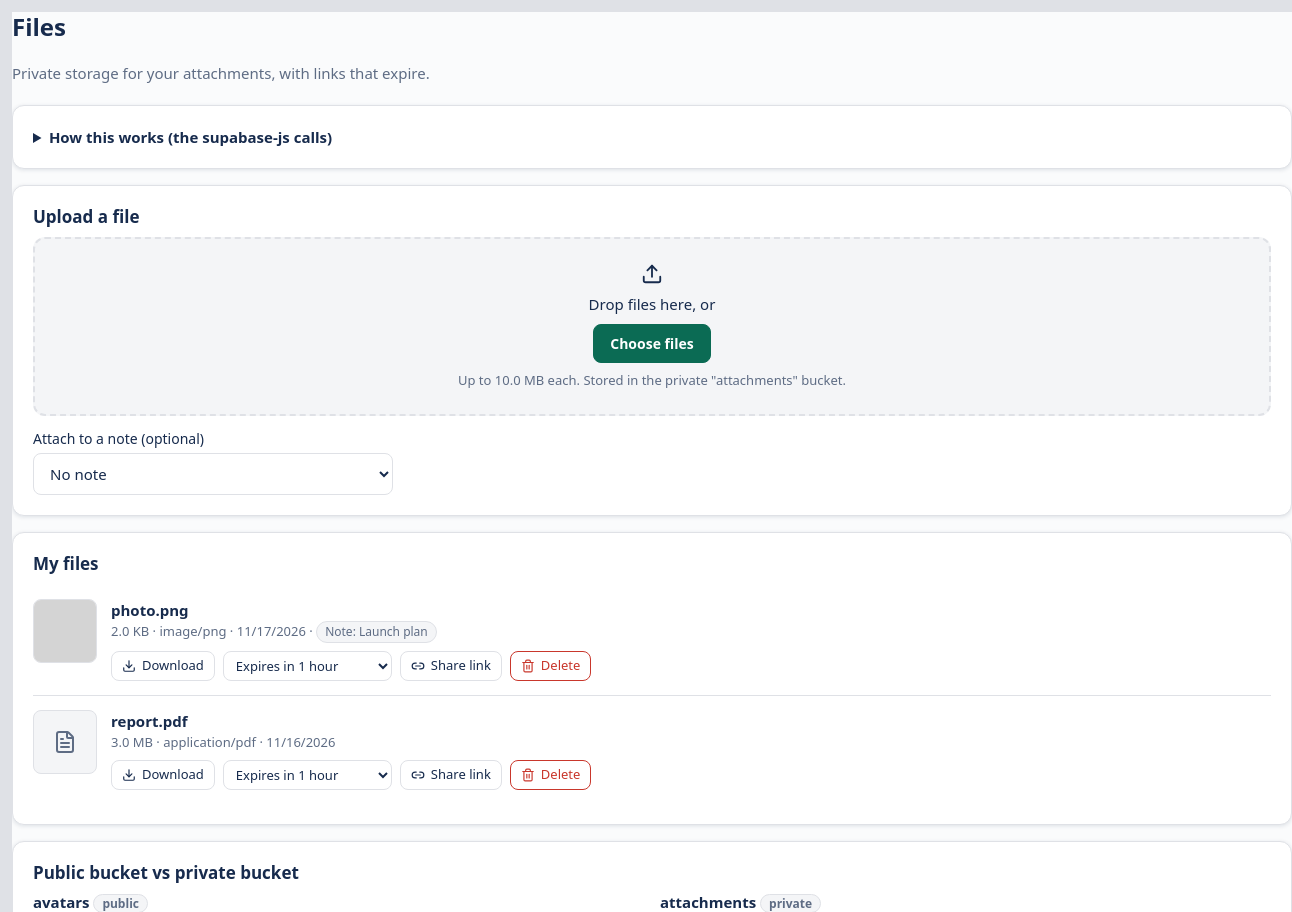
Scenario: FilesPage › deletes after confirmation: storage first, then the row, then removes it from the list
Click the button with aria-label "Delete report.pdf". click: {"x": 551, "y": 775}
box: [510, 760, 591, 790]
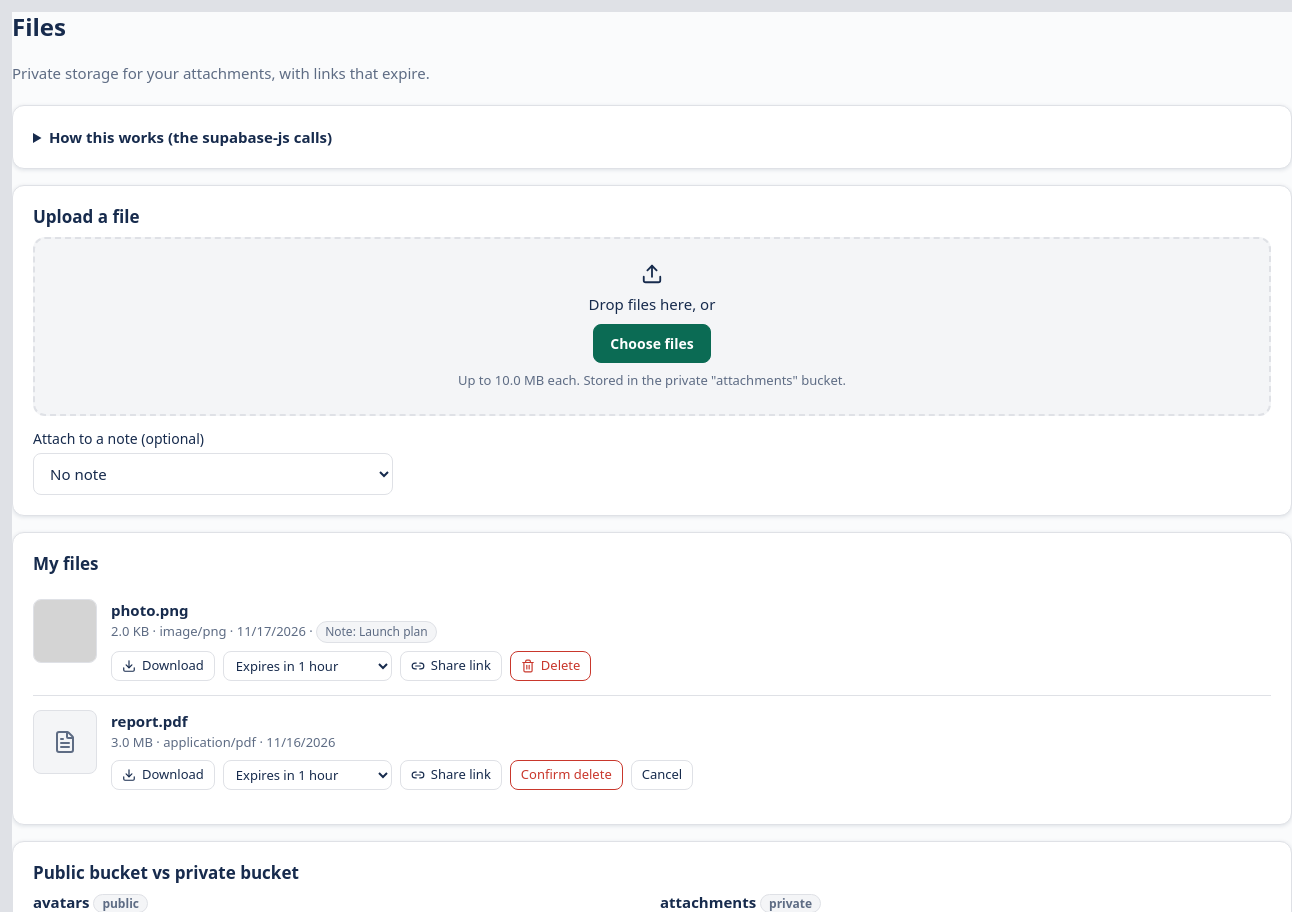
Click the button "Confirm delete". click: {"x": 566, "y": 775}
box: [510, 760, 623, 790]
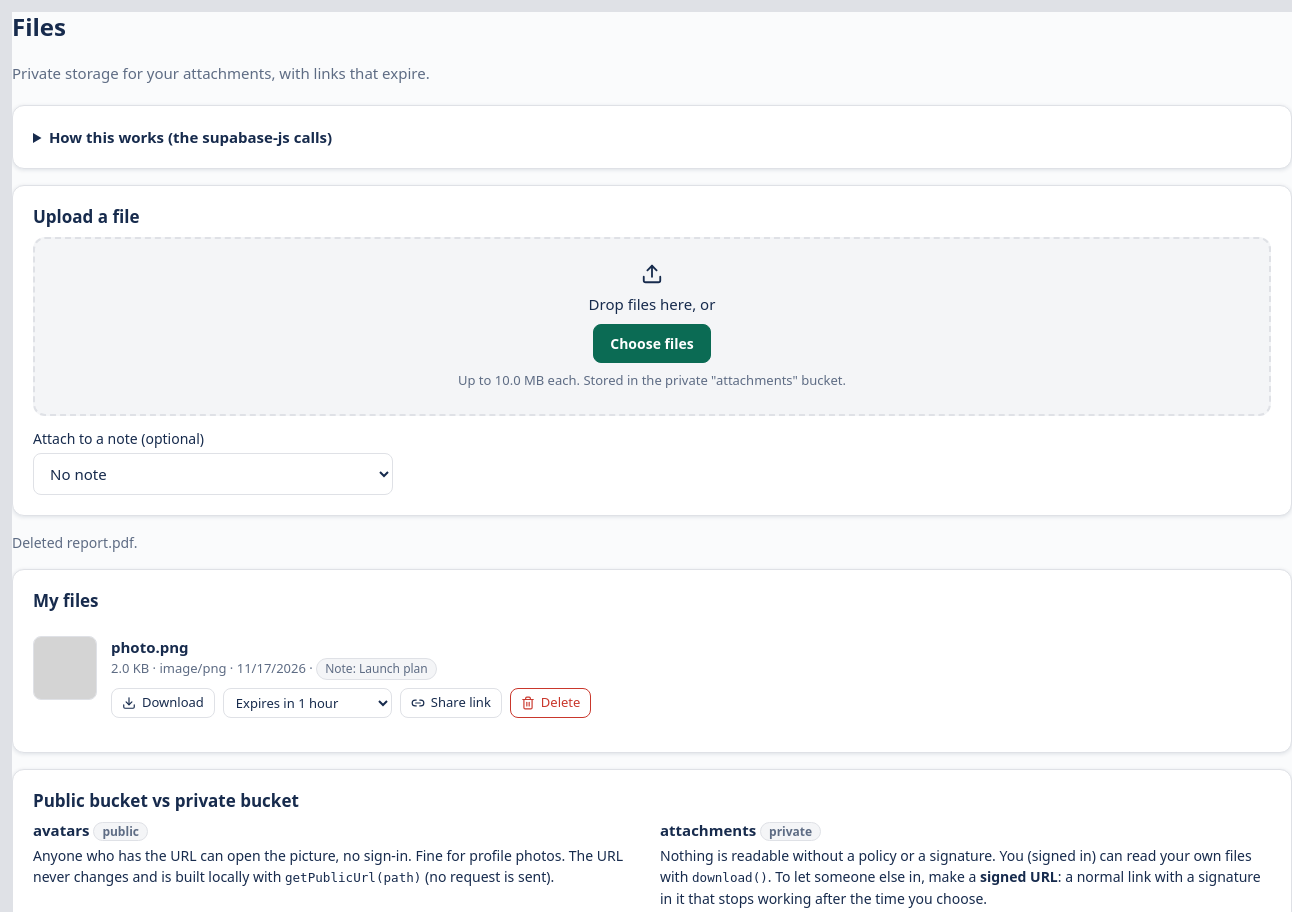
Expected: the number of list items with test id "file-row" is 1, [33, 636, 591, 724]
